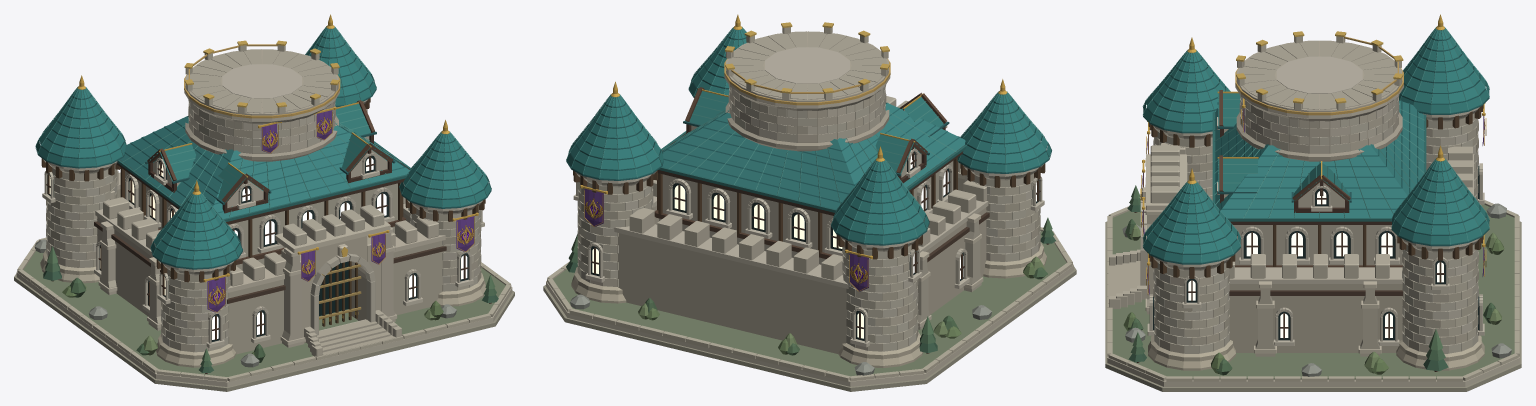
3 views of the same model, side by side, from view 1: azimuth 30°, elevation 25°; view 2: azimuth 150°, elevation 25°; view 3: azimuth 270°, elevation 25° (orthographic). The views are drawn at different scales.
Visible parts, largest first — view 1: Castle / Limestone, Castle / Patina, Castle / Oak, Castle / Ground, Castle / Gilt, Castle / Violet, Castle / Recess, Castle / Foliage, Castle / Lantern; view 2: Castle / Limestone, Castle / Patina, Castle / Ground, Castle / Oak, Castle / Gilt, Castle / Foliage, Castle / Lantern, Castle / Recess, Castle / Violet; view 3: Castle / Limestone, Castle / Patina, Castle / Ground, Castle / Oak, Castle / Foliage, Castle / Gilt, Castle / Recess, Castle / Lantern.
Boxes of the visible parts, x1,y1,x2,y2 form: Castle / Limestone: (14, 45, 514, 391); Castle / Patina: (35, 26, 491, 269); Castle / Oak: (41, 98, 491, 373); Castle / Ground: (23, 251, 505, 376); Castle / Gilt: (77, 14, 478, 323); Castle / Violet: (207, 110, 474, 312); Castle / Recess: (47, 155, 468, 341); Castle / Foliage: (43, 246, 498, 372); Castle / Lantern: (49, 158, 467, 339); Castle / Limestone: (543, 27, 1076, 391); Castle / Patina: (566, 27, 1051, 245); Castle / Ground: (553, 231, 1066, 376); Castle / Oak: (573, 87, 1048, 353); Castle / Gilt: (580, 14, 1007, 291); Castle / Foliage: (566, 217, 1055, 355); Castle / Lantern: (592, 155, 1036, 338); Castle / Recess: (591, 151, 1039, 340); Castle / Violet: (584, 188, 868, 291); Castle / Limestone: (1105, 36, 1521, 391); Castle / Patina: (1142, 27, 1489, 264); Castle / Ground: (1112, 204, 1514, 379); Castle / Oak: (1134, 90, 1483, 371); Castle / Foliage: (1123, 185, 1504, 375); Castle / Gilt: (1140, 14, 1486, 294); Castle / Recess: (1153, 165, 1479, 340); Castle / Lantern: (1188, 191, 1443, 337).
Size of the model in its own units: 22 by 12.45 by 20.4.
9 materials, 1 textured.
